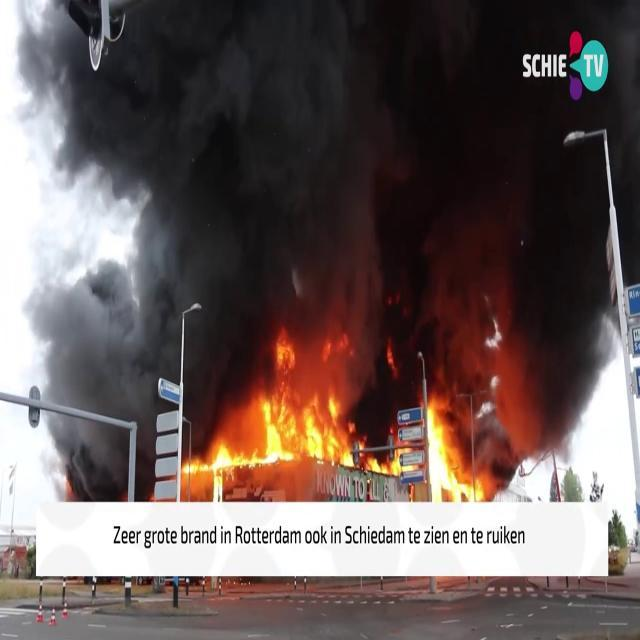Fire: (180, 376, 376, 490), (417, 386, 483, 506)
Smoke: (0, 0, 637, 404)
